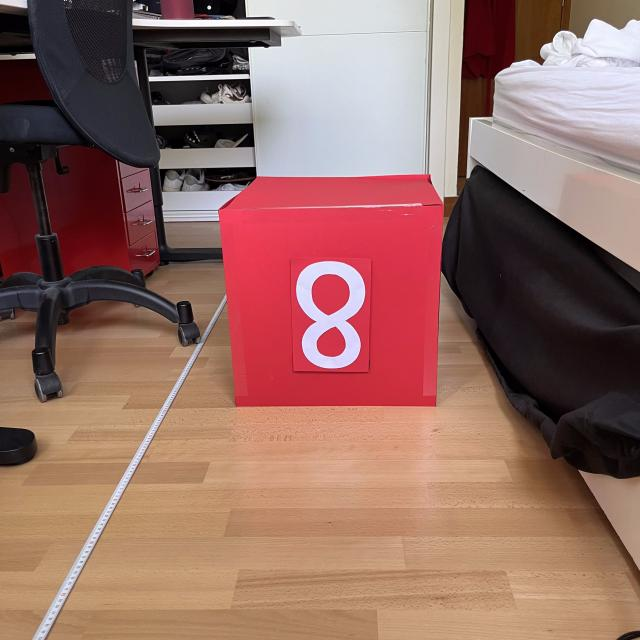box: (214, 170, 446, 410)
